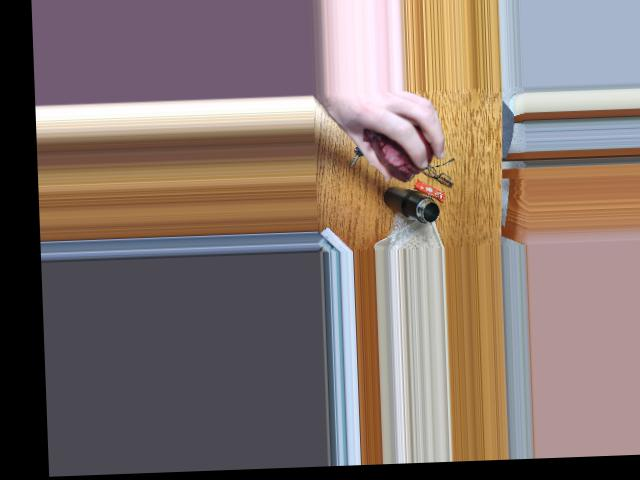onion: (369, 126, 431, 176)
